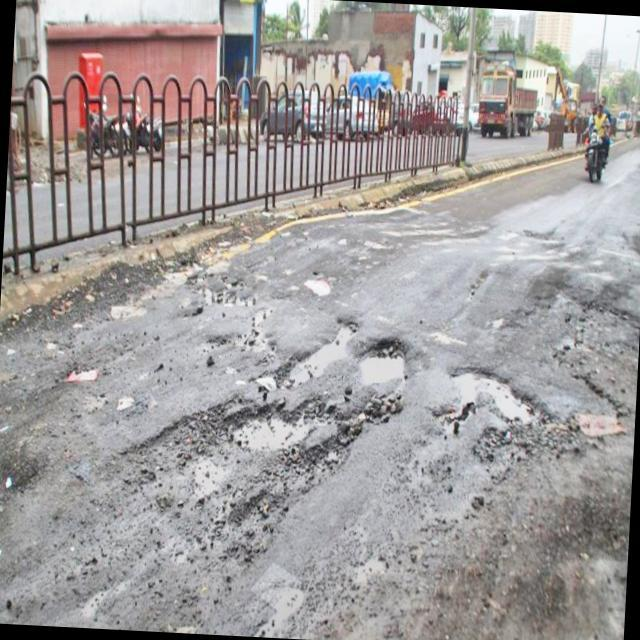Pothole: (104, 379, 384, 589), (0, 196, 233, 352), (428, 348, 600, 434), (282, 319, 373, 391), (347, 346, 405, 396), (49, 339, 112, 380), (301, 279, 345, 316), (98, 306, 146, 338)
